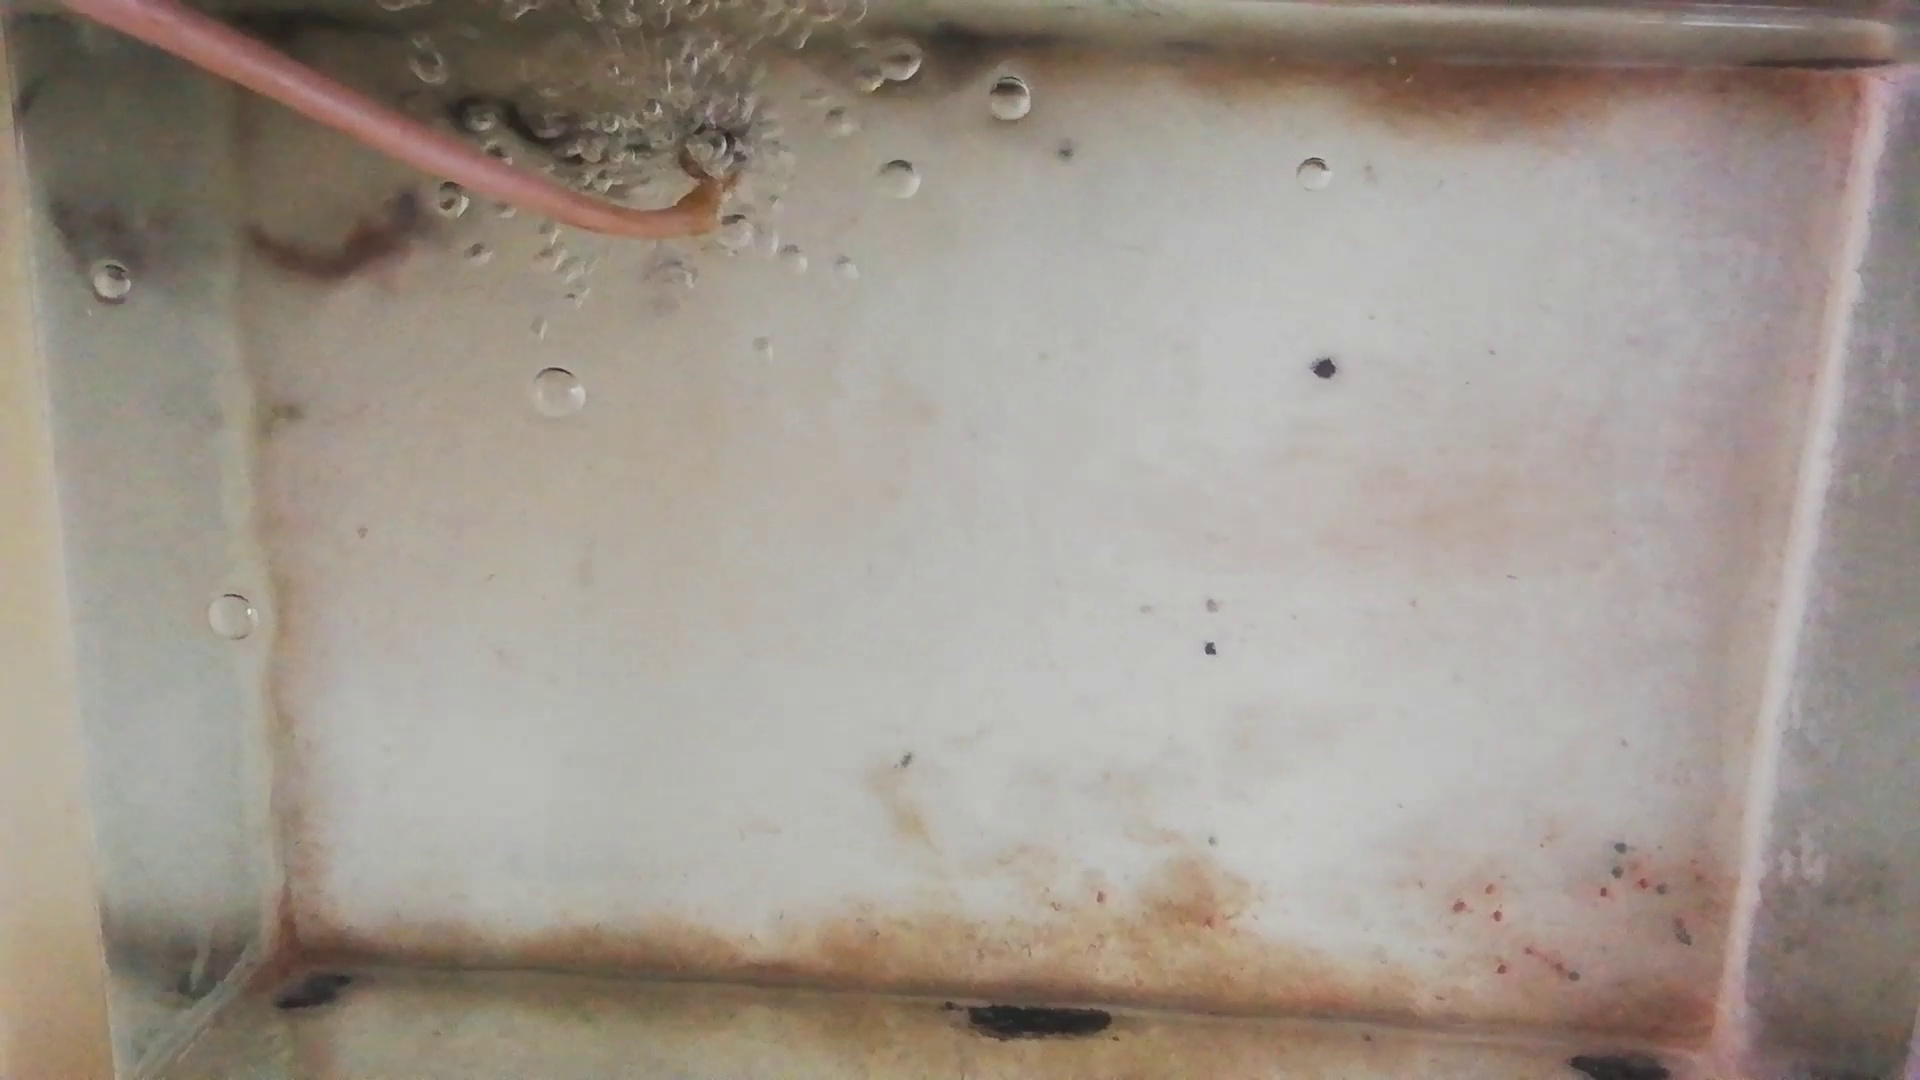fish: (225, 191, 433, 287), (442, 88, 640, 185)
